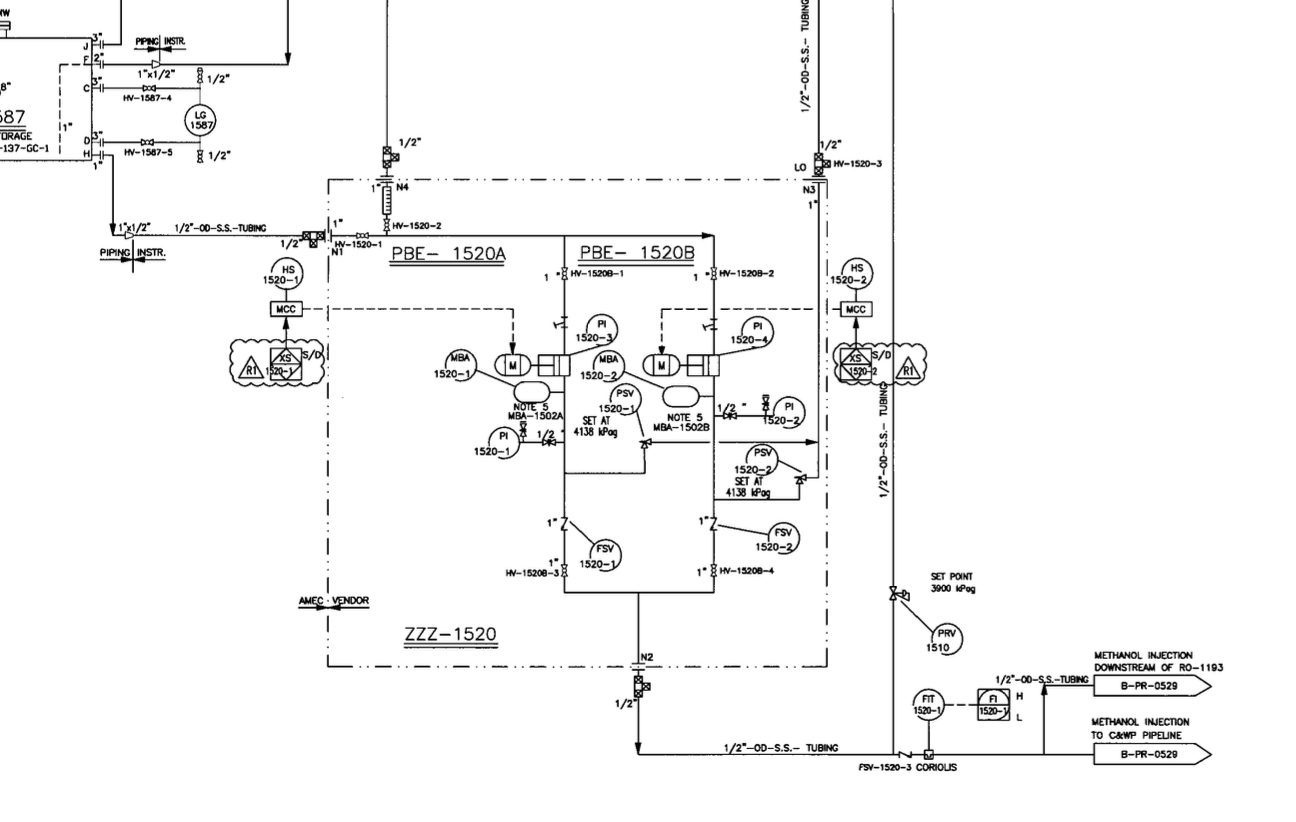Instrument-offset: (424, 339, 481, 386), (751, 512, 803, 557), (473, 420, 522, 465), (758, 388, 810, 430), (579, 534, 625, 574), (730, 315, 779, 351), (579, 349, 627, 385), (910, 681, 950, 723), (830, 255, 877, 289), (920, 622, 967, 656), (178, 100, 220, 138), (732, 444, 783, 474), (572, 315, 621, 346), (262, 256, 306, 290)
Instrument-square-offset: (968, 683, 1014, 725)
